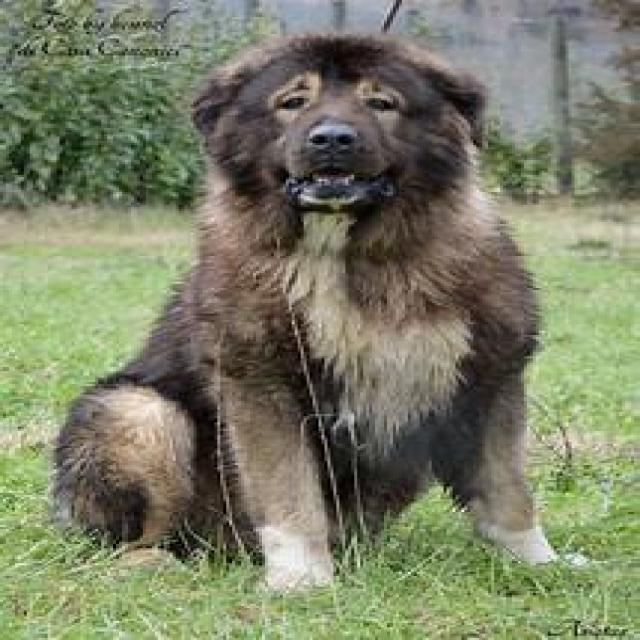KOPEK: (61, 29, 580, 588)
